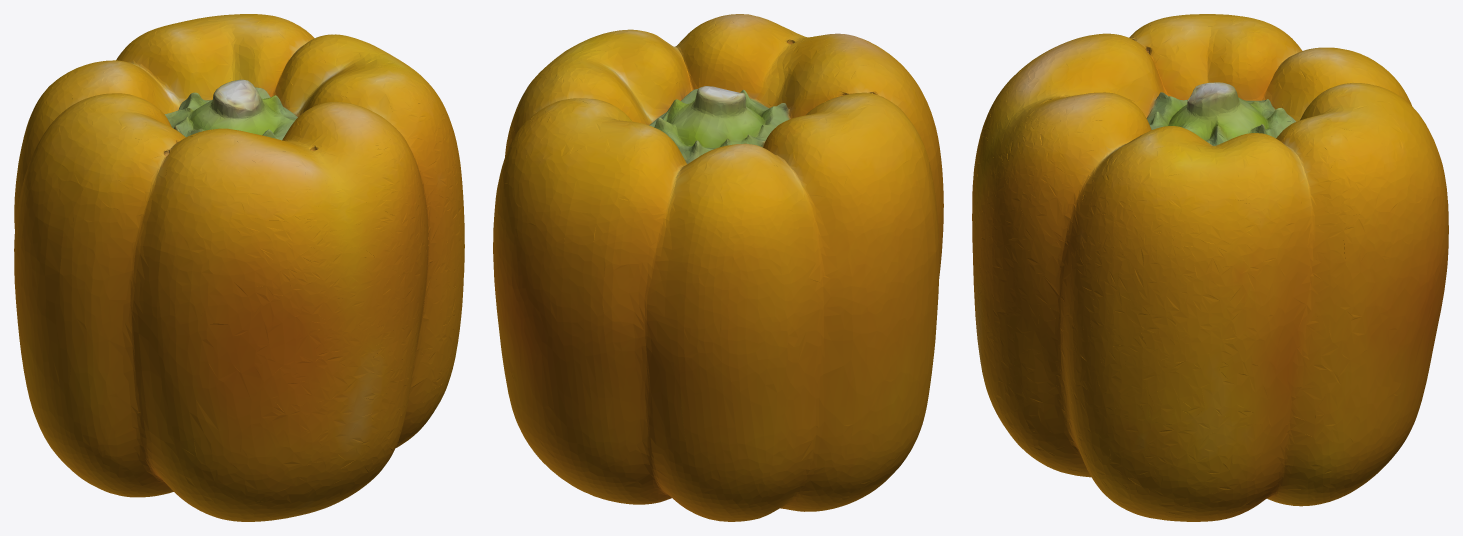
File: kitchen-bell-pepper.glb
3 renders of one model, left to right at view 1: azimuth 30°, elevation 25°; view 2: azimuth 150°, elevation 25°; view 3: azimuth 270°, elevation 25°, orthographic. The views are drawn at different scales.
Visible parts, largest first — view 1: geometry_0; view 2: geometry_0; view 3: geometry_0.
Boxes of the visible parts, x1,y1,x2,y2 form: geometry_0: [14, 14, 464, 521]; geometry_0: [493, 14, 943, 521]; geometry_0: [972, 14, 1448, 521].
Bounding box in the file's own units: 0.9907 × 0.9305 × 0.998.
